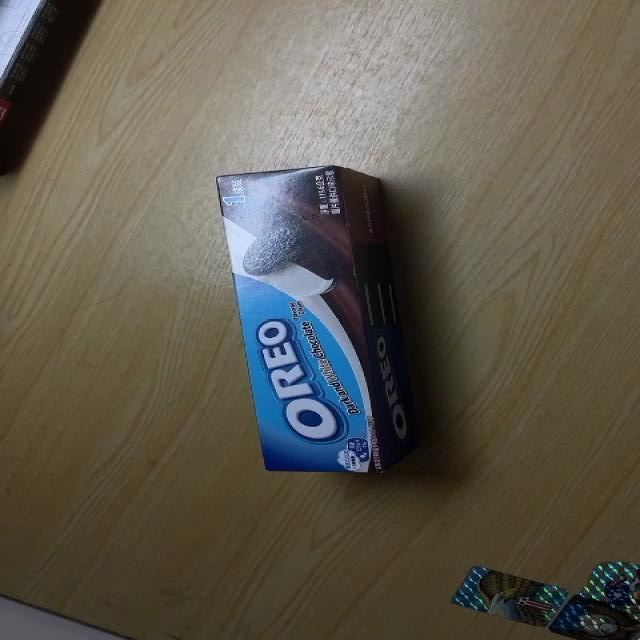Oreo: (215, 162, 416, 474)
